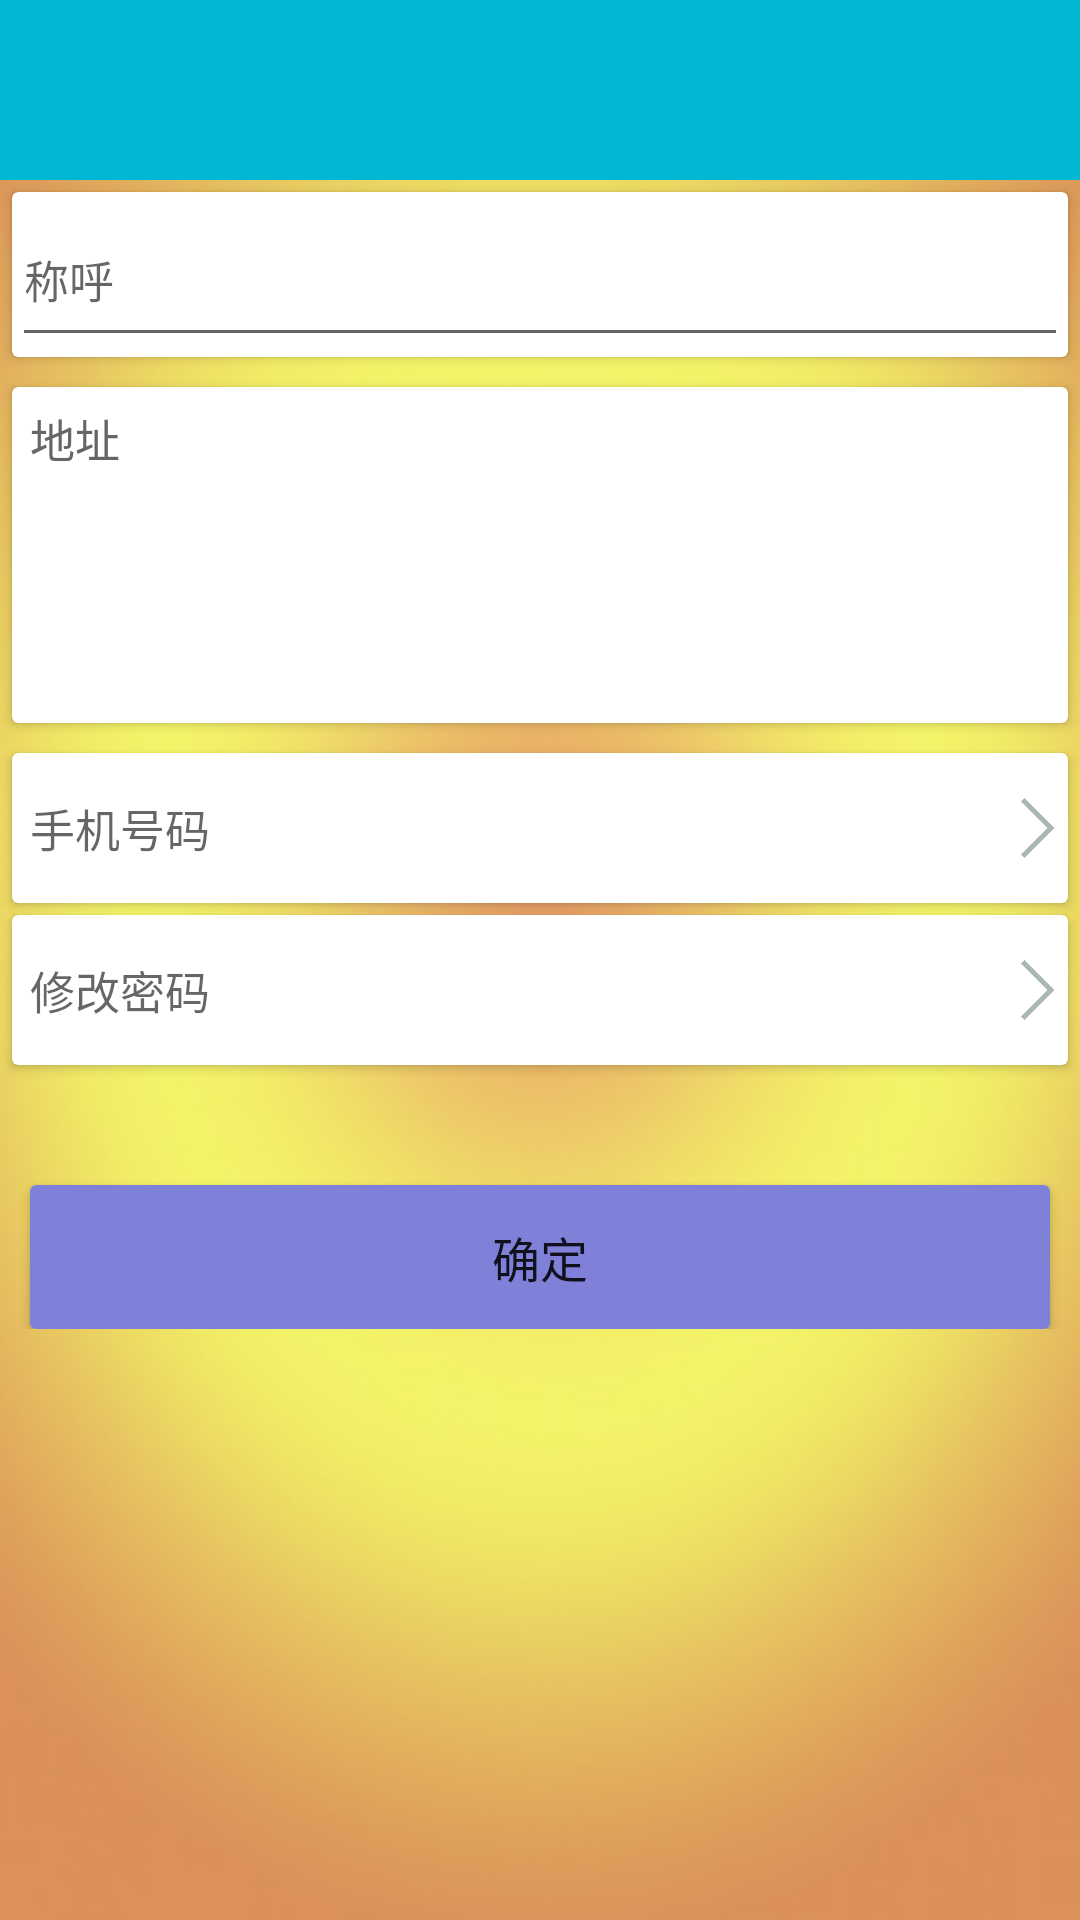

Where icons sit on this 1080x1920 app screen, as (x1, y1, x2, y2):
arrow right: (1021, 798, 1054, 858), (1021, 960, 1054, 1020)
